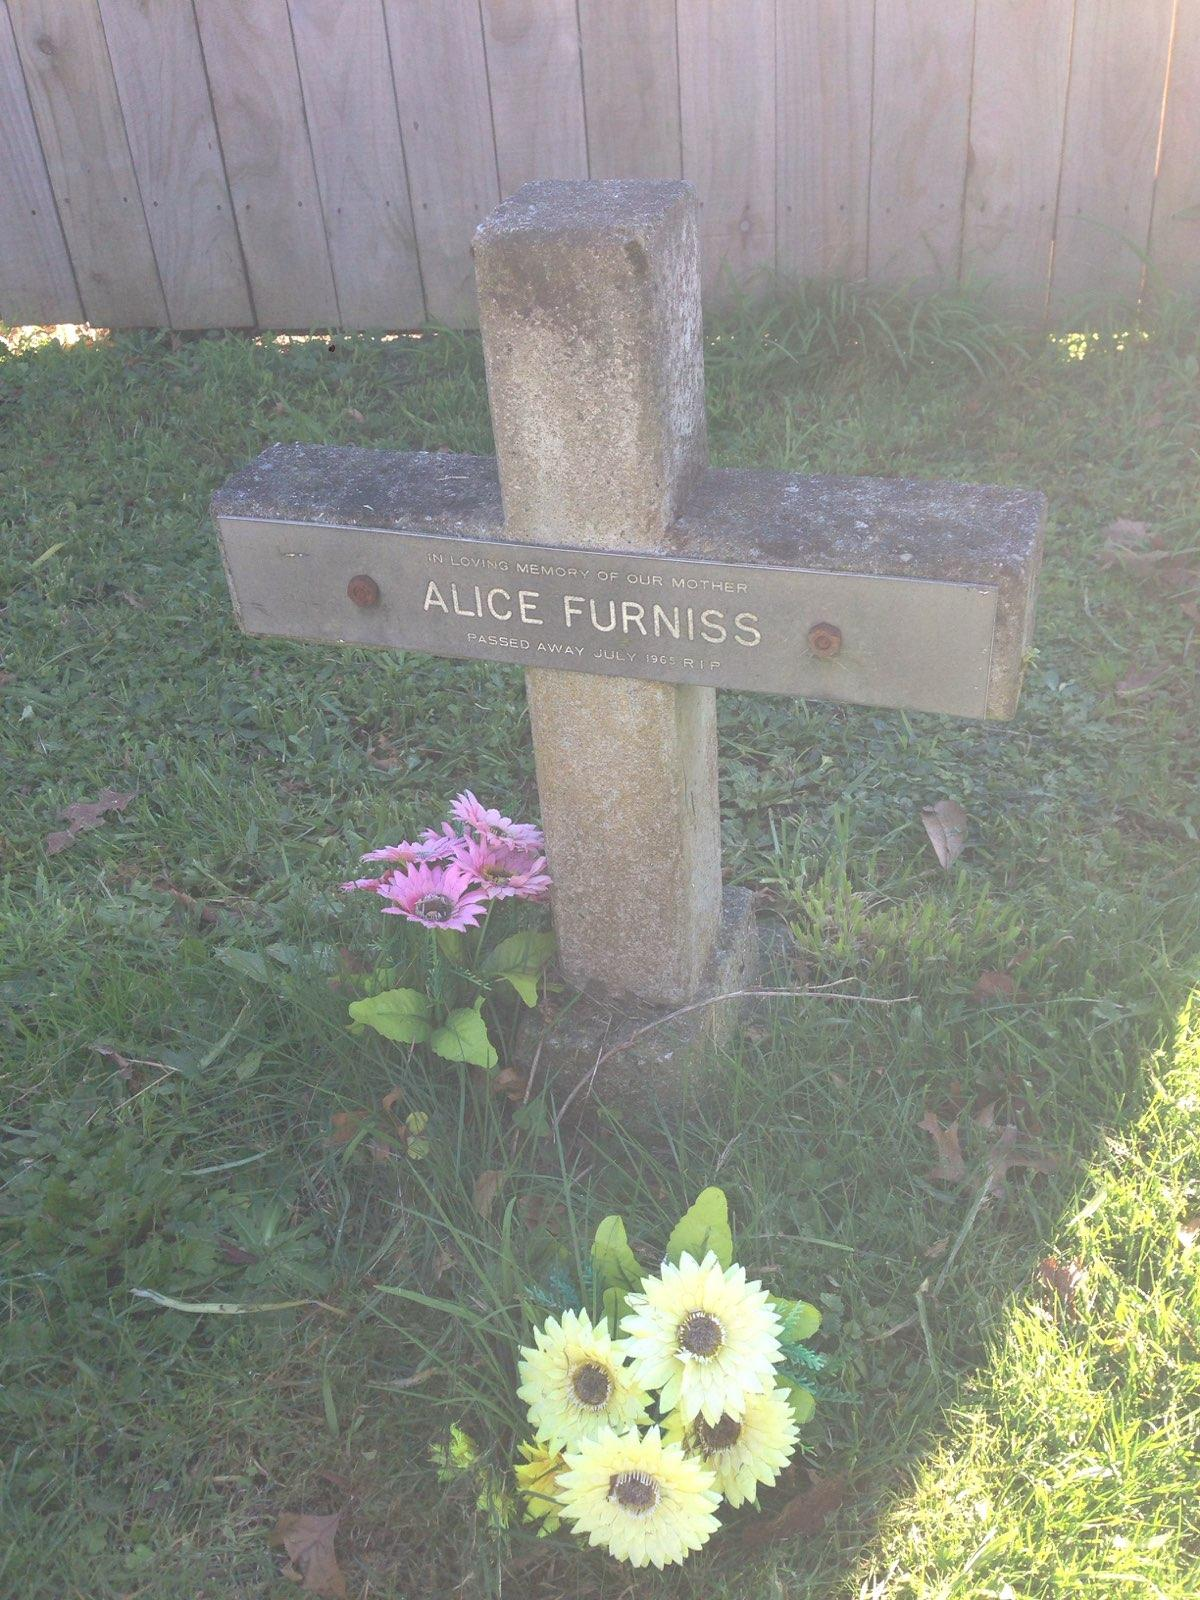upright: (150, 161, 1047, 1170)
